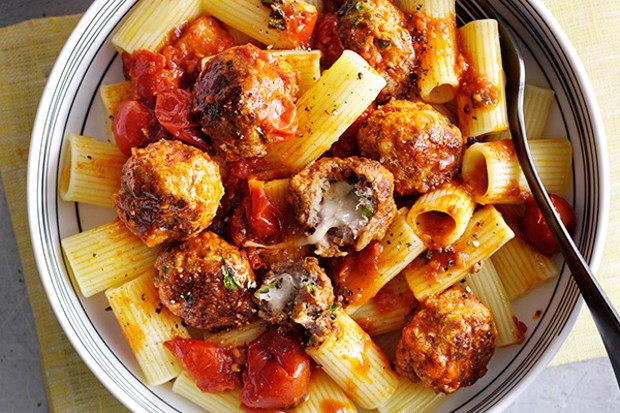meatballs: (120, 144, 226, 242), (387, 297, 490, 392), (358, 105, 467, 173)
